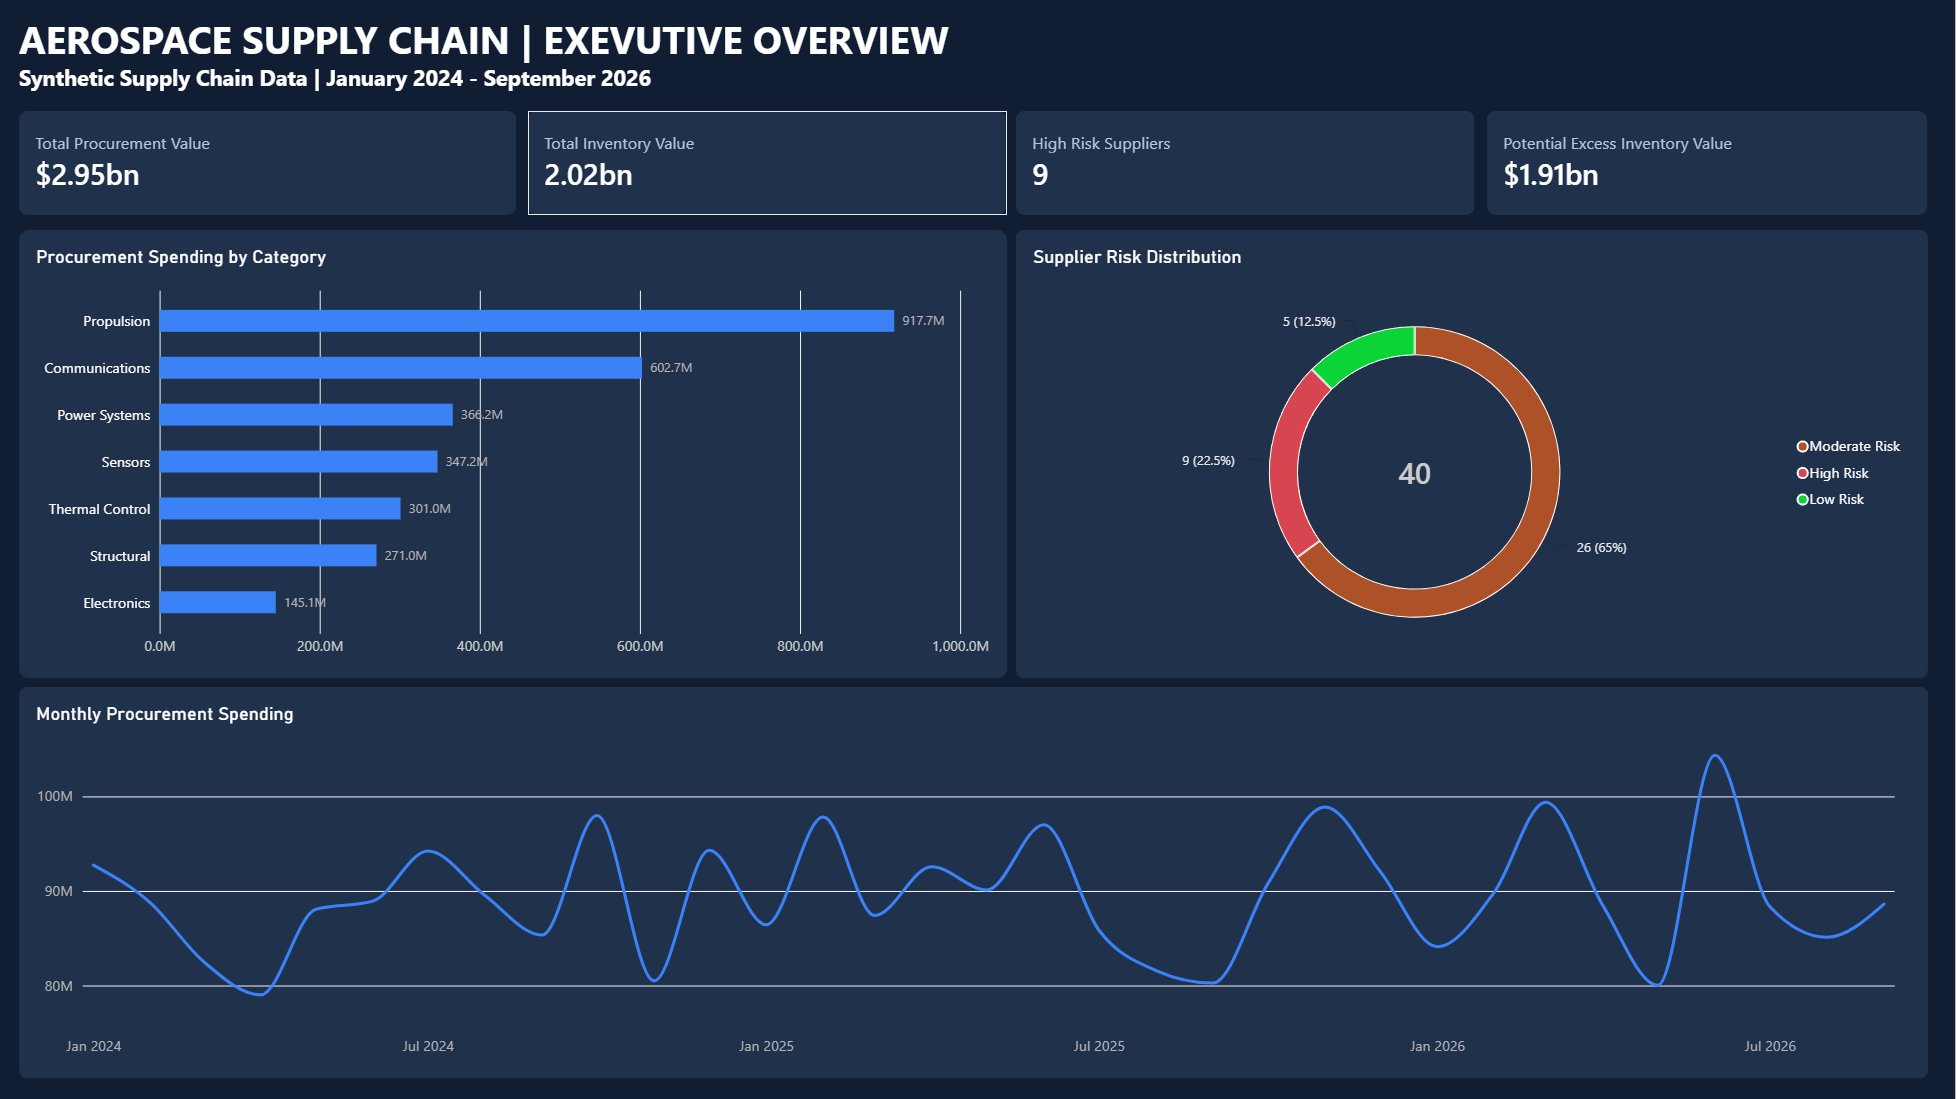

The dashboard page shown, as its layout file describes it:
{"tool":"powerbi","page":{"name":"Executive Overview","canvas":[1920,1080],"ordinal":0},"visuals":[{"type":"cardVisual","fields":{"Data":["vw_procurement.Total Procurement Value"]},"box":[19.6,109.2,488.5,102],"z":0},{"type":"cardVisual","fields":{"Data":["vw_inventory_valuation.Total Inventory Value"]},"box":[519.4,109.2,470,102],"z":1000},{"type":"cardVisual","fields":{"Data":["vw_supplier_risk.High Risk Suppliers"]},"box":[998.6,109.2,450.4,102],"z":2000},{"type":"cardVisual","fields":{"Data":["vw_excess_inventory.Potential Excess Inventory Value"]},"box":[1460.4,109.2,432.9,102],"z":3000},{"type":"textbox","box":[19.6,12.4,926.5,87.6],"z":4000},{"type":"clusteredBarChart","title":"Procurement Spending by Category","fields":{"Category":["vw_procurement.Category"],"Y":["vw_procurement.Total Procurement Value"]},"box":[19.6,225.7,969.8,440.1],"z":5000},{"type":"lineChart","title":"Monthly Procurement Spending","fields":{"Category":["vw_procurement.OrderMonth"],"Y":["vw_procurement.Total Procurement Value"]},"box":[19.6,674,1873.6,384.4],"z":6000},{"type":"donutChart","title":"Supplier Risk Distribution","fields":{"Category":["vw_supplier_risk.RiskCategory"],"Y":["Count(vw_supplier_risk.SupplierID)"]},"box":[998.6,225.7,894.6,440.1],"z":7000}]}

Visuals, with their boxes in screenshot pixels (x1, y1, x2, y2), scaled from the page's 1920x1080 canvas onto the 1956x1099 screenshot:
cardVisual - vw_procurement.Total Procurement Value: region(20, 111, 518, 215)
cardVisual - vw_inventory_valuation.Total Inventory Value: region(529, 111, 1008, 215)
cardVisual - vw_supplier_risk.High Risk Suppliers: region(1017, 111, 1476, 215)
cardVisual - vw_excess_inventory.Potential Excess Inventory Value: region(1488, 111, 1929, 215)
textbox: region(20, 13, 964, 102)
"Procurement Spending by Category" clusteredBarChart: region(20, 230, 1008, 678)
"Monthly Procurement Spending" lineChart: region(20, 686, 1929, 1077)
"Supplier Risk Distribution" donutChart: region(1017, 230, 1929, 678)
